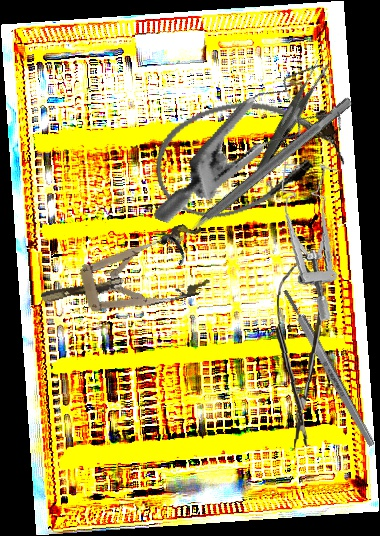Cannula: (143, 81, 352, 231)
Dressing Forceps: (222, 56, 355, 181)
Fixation Ring: (156, 86, 363, 267)
Micro Scissor: (272, 256, 325, 450)
Scalpel Handle: (280, 287, 377, 449)
Speculum: (152, 28, 360, 270), (32, 220, 217, 332), (265, 158, 351, 323)
